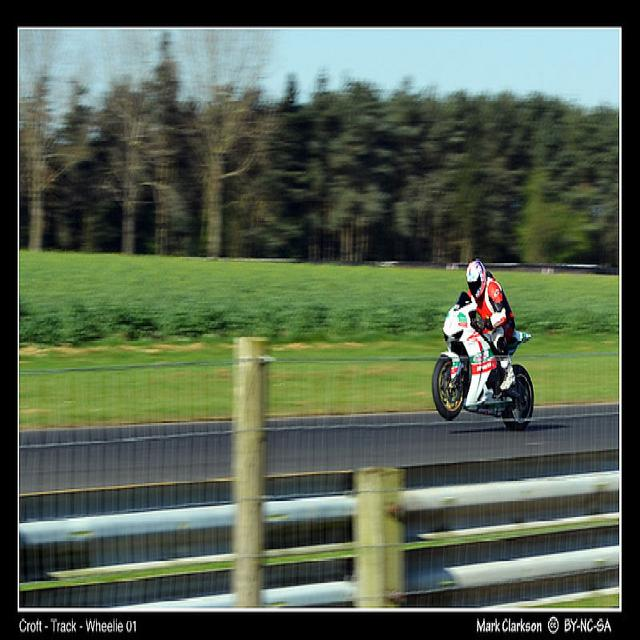motor: (431, 293, 533, 430)
